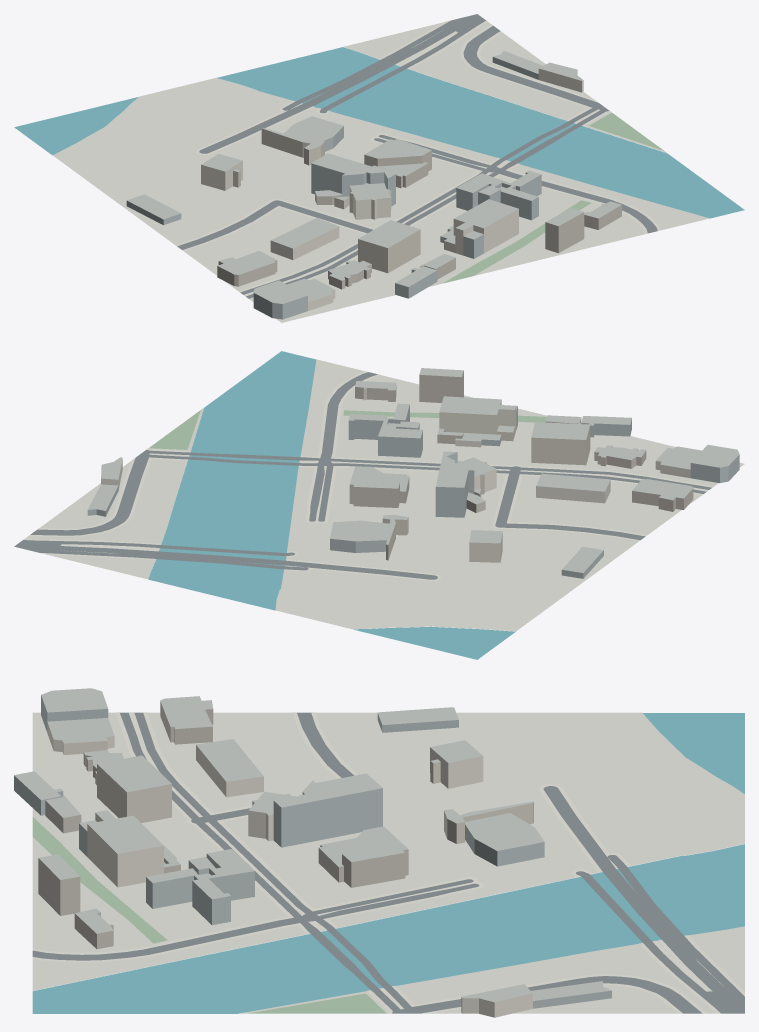
3 views of the same model, one above another, from view 1: azimuth 30°, elevation 25°; view 2: azimuth 150°, elevation 25°; view 3: azimuth 270°, elevation 25° (orthographic). The views are drawn at different scales.
Parts seen in each view (by area): view 1: city; view 2: city; view 3: city.
Boxes of the visible parts, x1,y1,x2,y2 form: city: [14, 14, 744, 322]; city: [14, 351, 744, 659]; city: [14, 688, 744, 1017].
Bounding box in the file's own units: 513 × 31.18 × 513.
